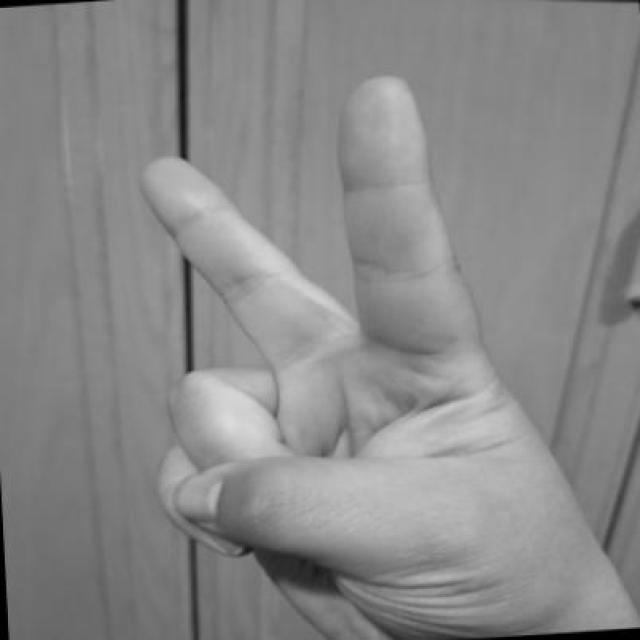V: (125, 53, 639, 639)
